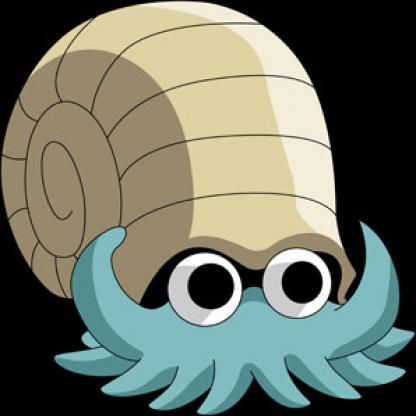Omanyte: (1, 1, 416, 416)
